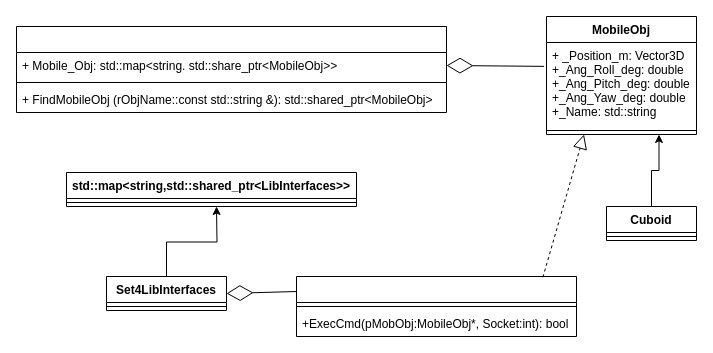
This 713x353 diagram has some shape labels left out. The box of each missing label's shape, as (x1, y1, x2, y2) in pixels:
Interp4Command: (296, 276, 576, 336)
Scene: (16, 26, 446, 112)
